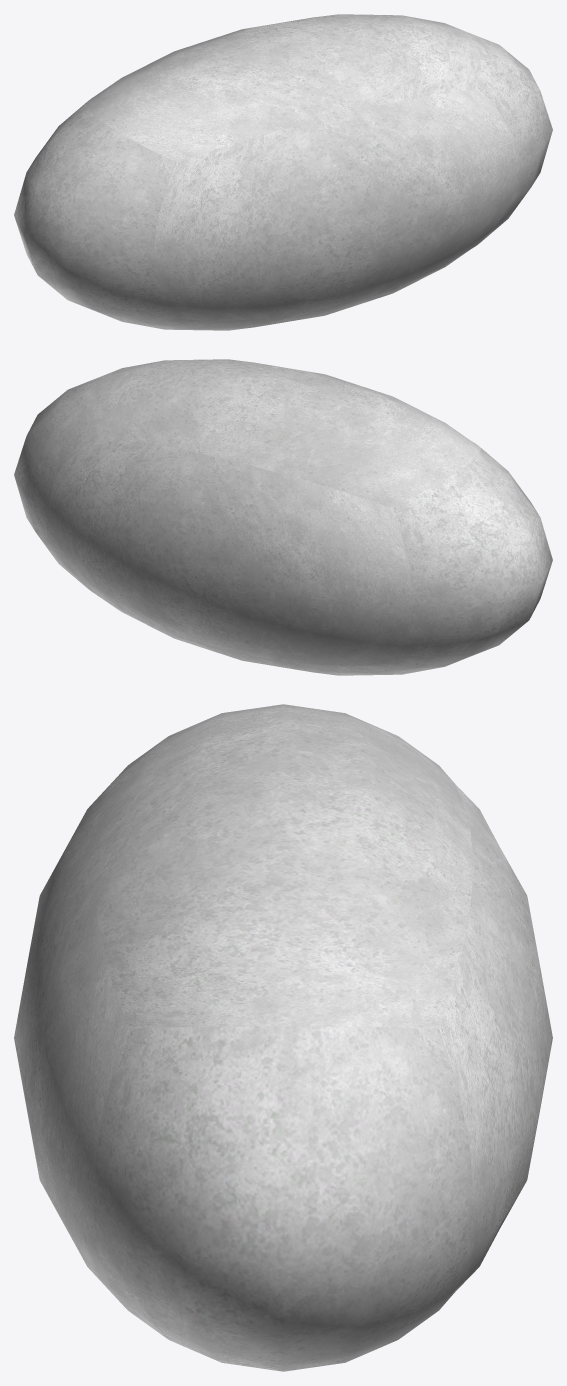
File: spheroid.obj
3 renders of one model, top to bottom at view 1: azimuth 30°, elevation 25°; view 2: azimuth 150°, elevation 25°; view 3: azimuth 270°, elevation 25°, orthographic. The views are drawn at different scales.
Parts seen in each view (by area): view 1: Spheroid1; view 2: Spheroid1; view 3: Spheroid1.
Boxes of the visible parts, x1,y1,x2,y2 form: Spheroid1: (14,14,552,330); Spheroid1: (14,359,552,675); Spheroid1: (14,704,552,1371).
Size of the model in its own units: 4 by 2 by 2.
Materials: 1 (1 with a texture image).
